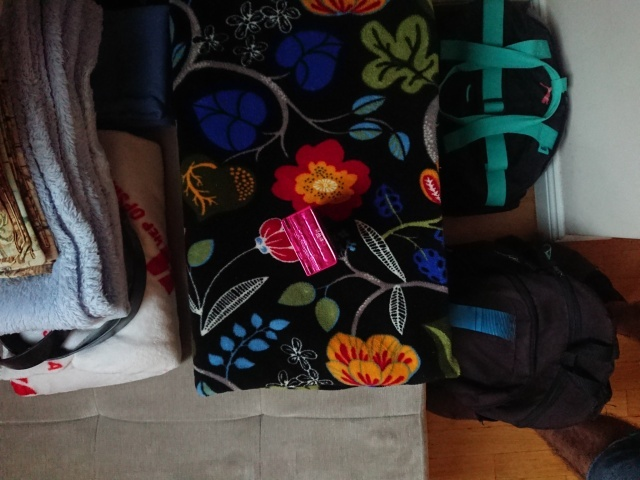Barcaffe Classic Original 225g: (279, 203, 339, 278)
